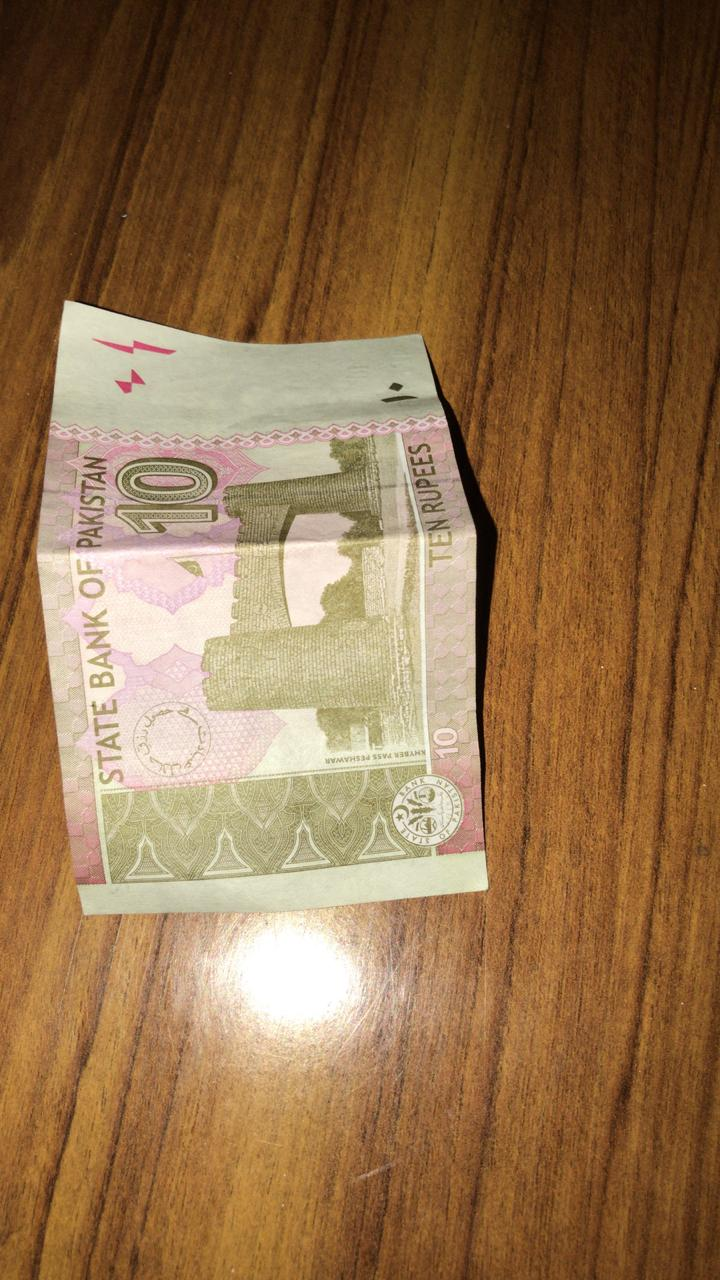10 rupee: (22, 278, 523, 972)
